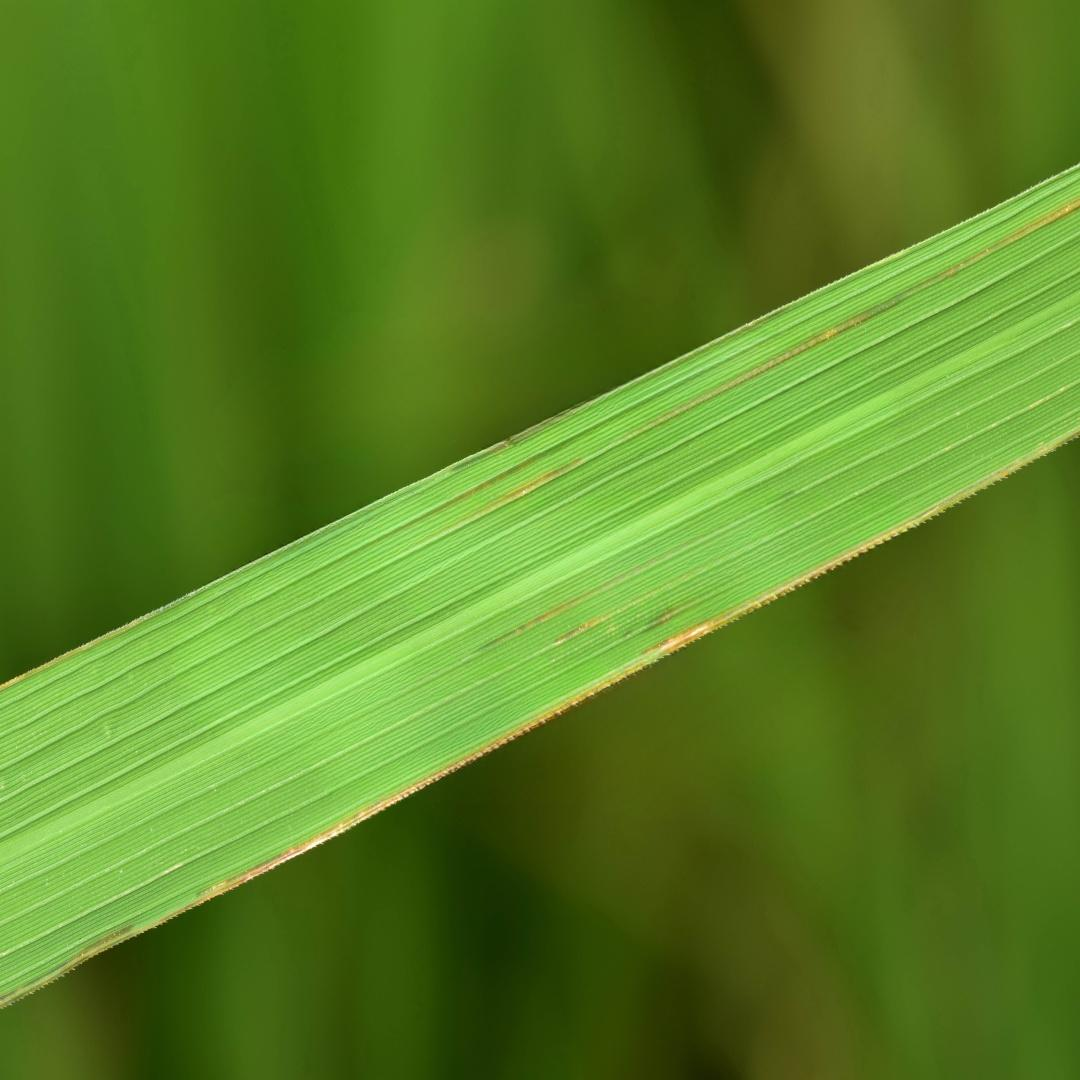BLS: (2, 662, 644, 1008), (635, 198, 1079, 440), (641, 508, 935, 656), (382, 439, 579, 539), (479, 592, 595, 655), (491, 456, 582, 510), (546, 612, 617, 648)
